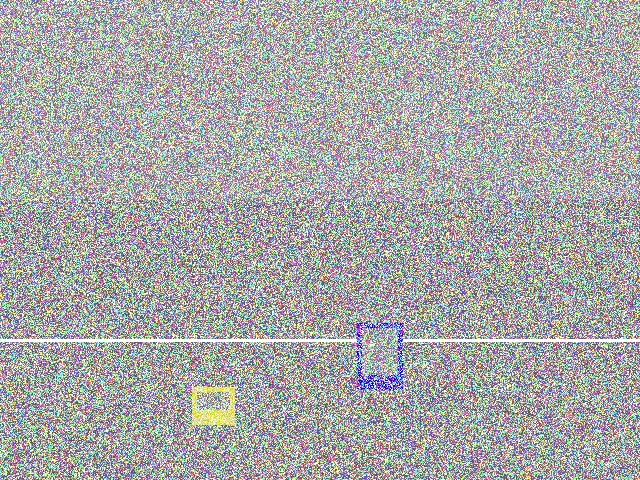car: (344, 90, 505, 219)
motorcycle: (52, 156, 202, 217)
